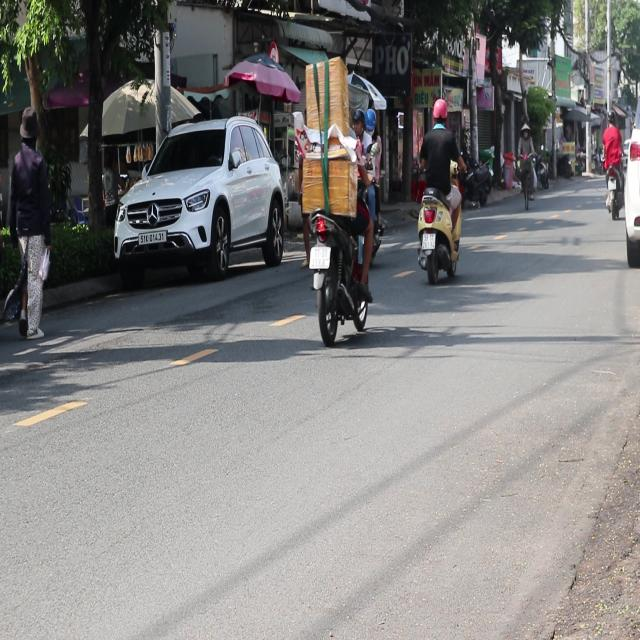helmet: (431, 97, 447, 126)
licenseplate: (299, 104, 378, 344), (414, 96, 463, 284)
motorcyclist: (18, 106, 41, 149)
nohelmet: (309, 246, 331, 268), (422, 232, 435, 249)
